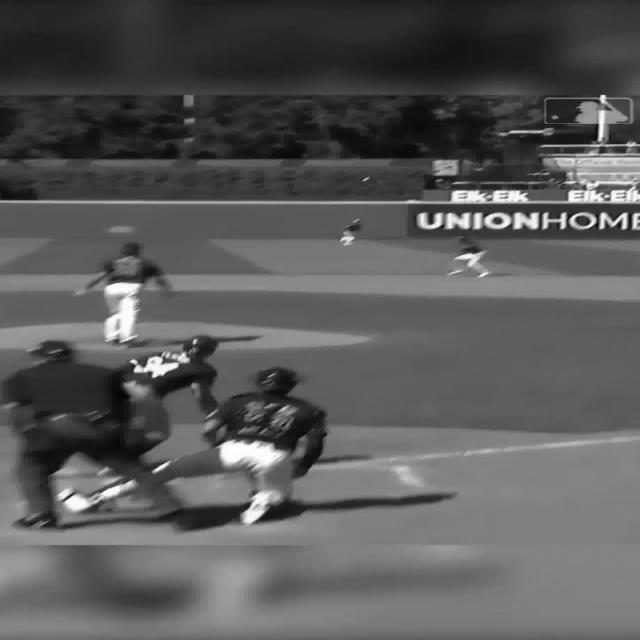baseball: (360, 176, 370, 182)
shoe: (238, 490, 286, 526), (56, 488, 104, 514), (11, 512, 57, 530), (150, 494, 182, 518), (154, 508, 194, 521), (476, 272, 490, 278)
